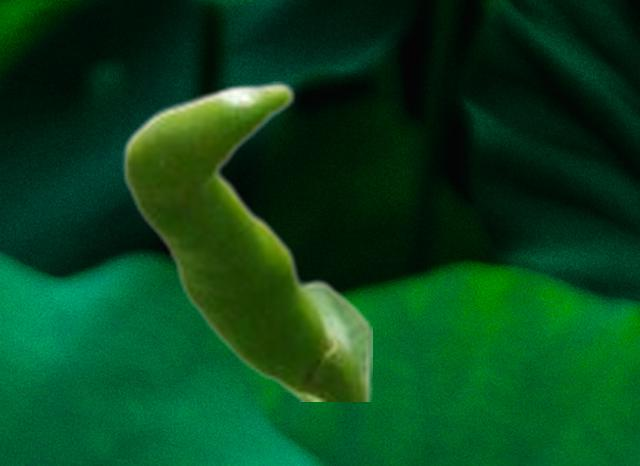green_chili: (121, 81, 371, 400)
